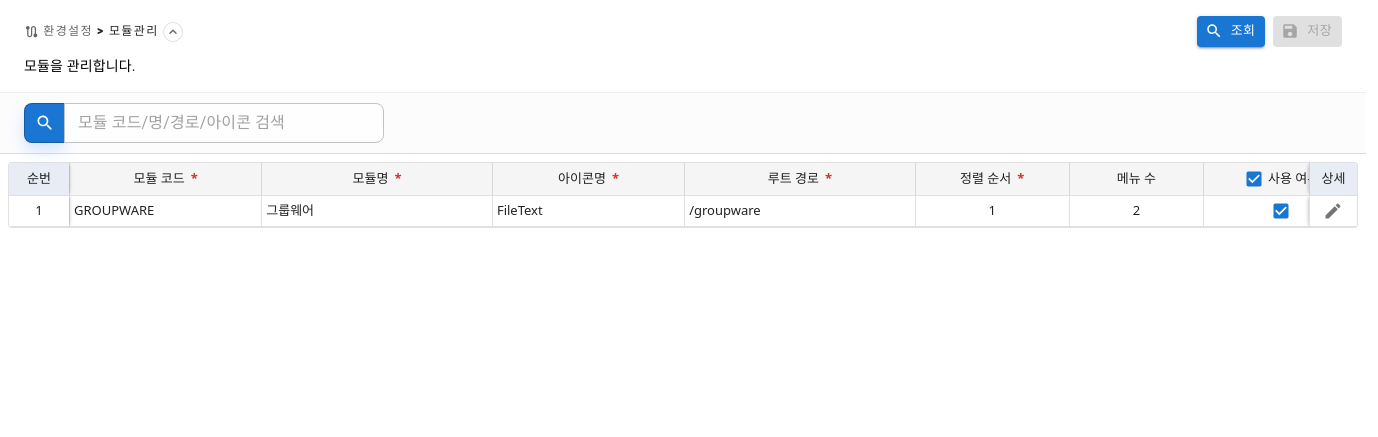
Test case: 모듈관리: 메뉴 권한에 따라 단추 · 오른쪽 클릭 메뉴 › 모든 권한: [저장] · 오른쪽 클릭 [행 추가] · [행 삭제] 있음(지금과 같음)
Expected: the button "저장" is shown, [1273,16,1342,47]
Right-click the cell "그룹웨어" at (377, 211), box [261,195,492,227]
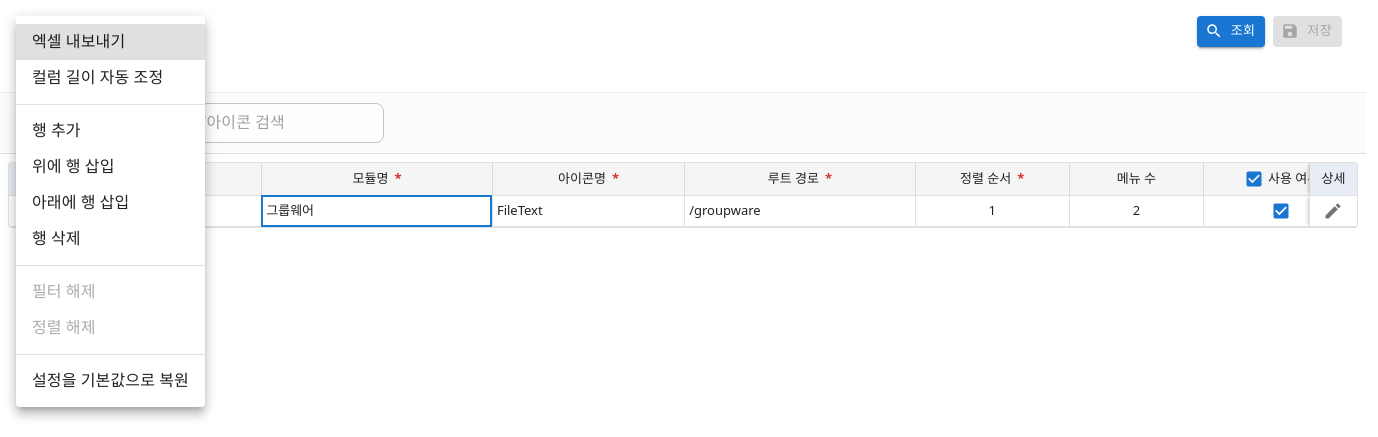
Now the menu item "행 추가" is shown, box [32,121,81,140]
Now the menu item "행 삭제" is shown, box [32,229,81,248]
